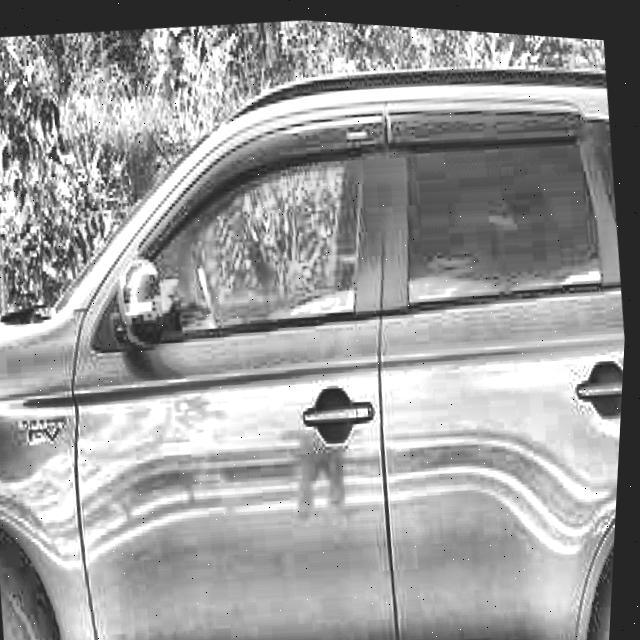light_vehicle: (0, 20, 639, 640)
